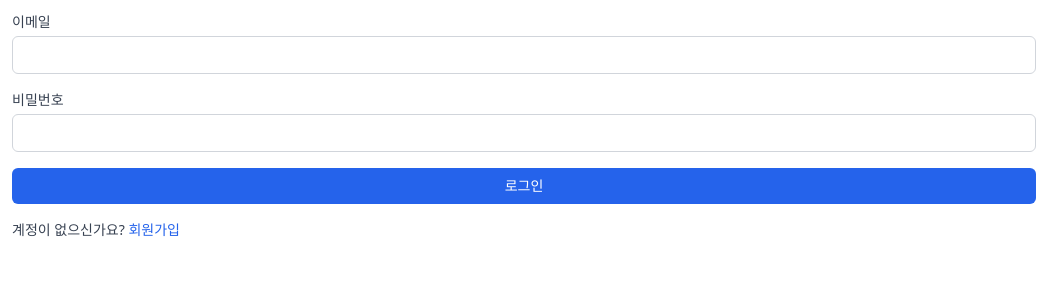
Test: LoginForm › 로그인 실패(401) 시 안내 메시지를 표시한다
Type "user@test.com" into the field labelled "이메일" at (524, 55), box top-left (12, 36), bottom-right (1036, 74)
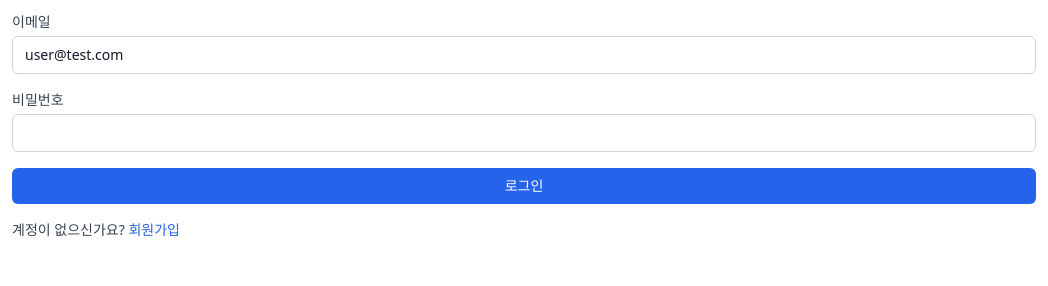
Type "wrong-password" into the password field labelled "비밀번호" at (524, 133), box top-left (12, 114), bottom-right (1036, 152)
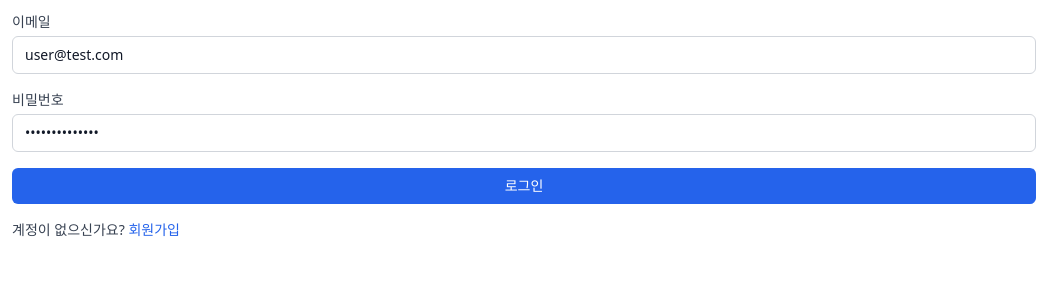
Click the button "로그인" at (524, 186), box top-left (12, 168), bottom-right (1036, 204)
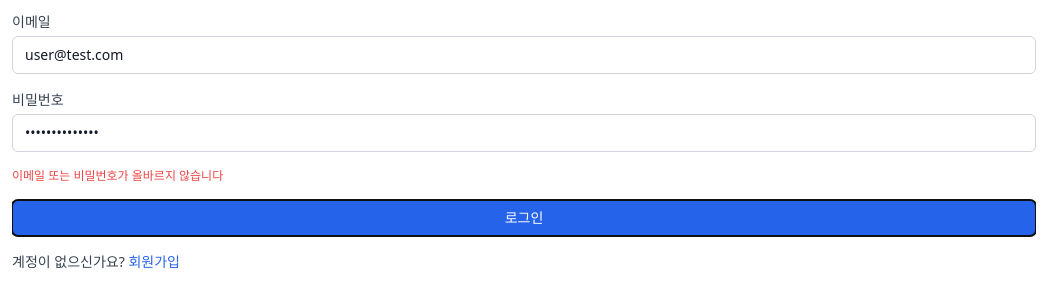
Now the text "이메일 또는 비밀번호가 올바르지 않습니다" is shown, box top-left (12, 167), bottom-right (223, 184)
